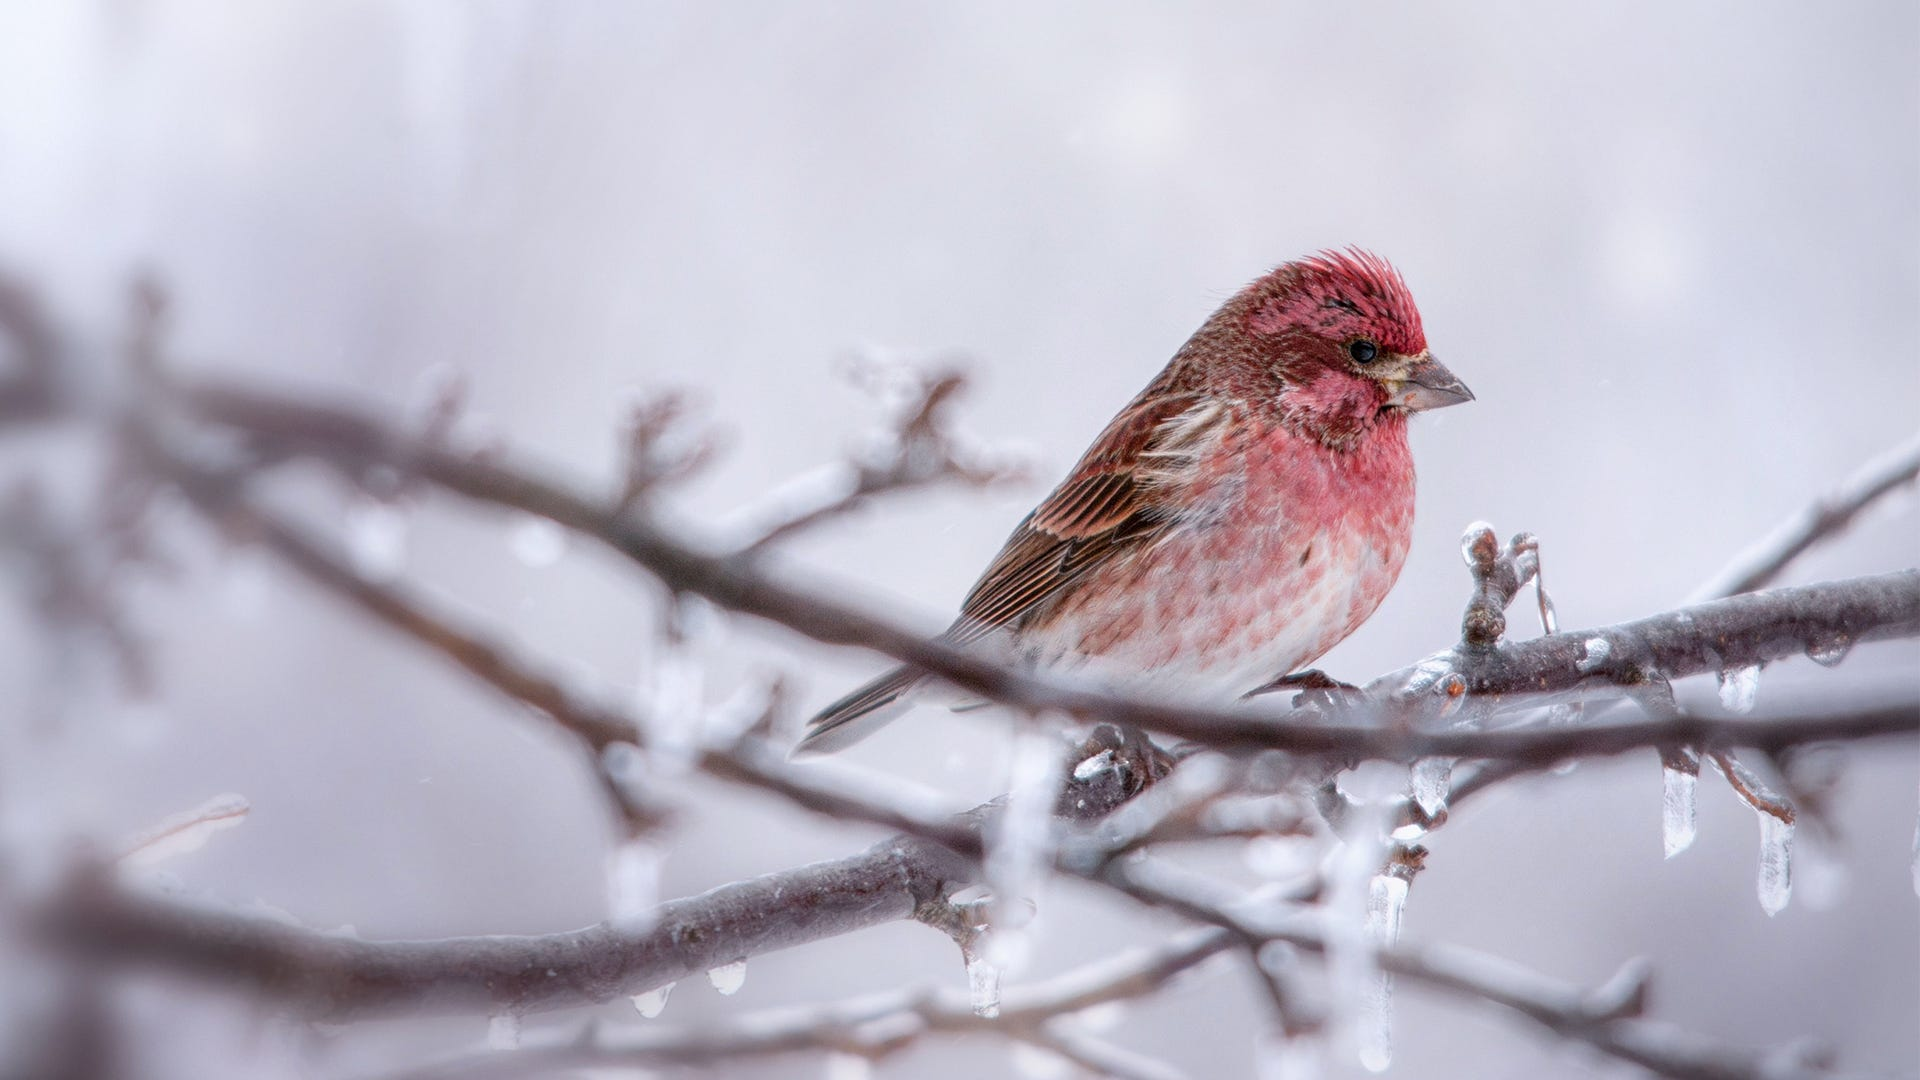bird: (775, 162, 1495, 891)
